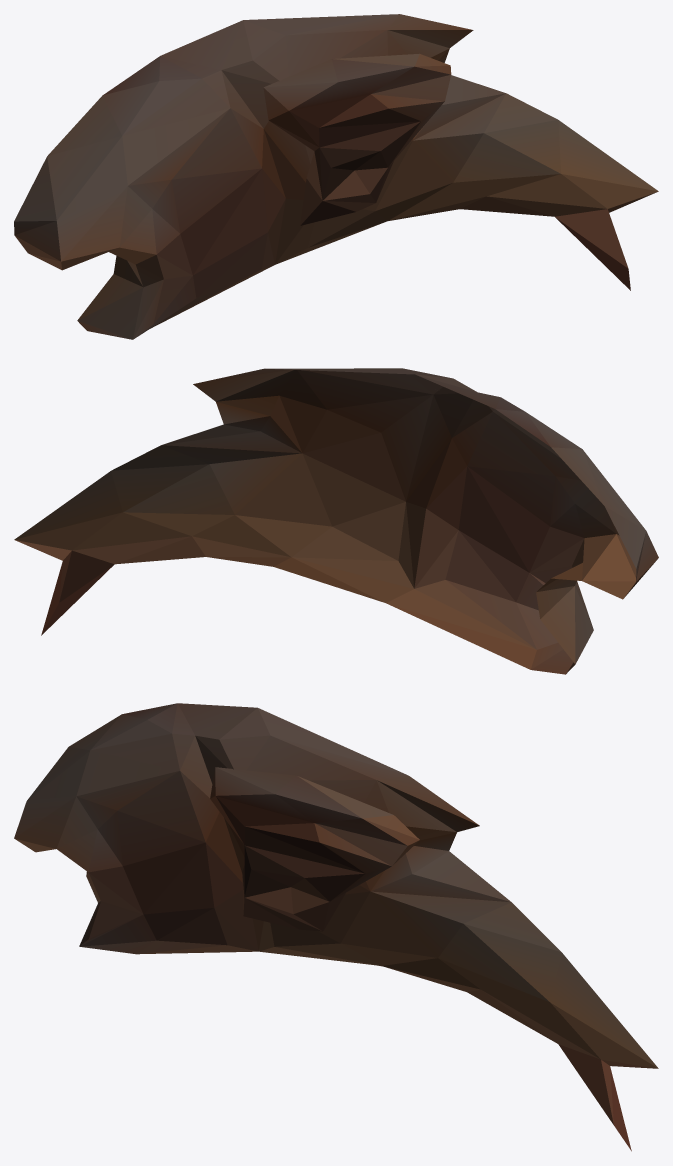
File: Prop_CarvingC.fbx
3 views of the same model, one above another, from view 1: azimuth 30°, elevation 25°; view 2: azimuth 150°, elevation 25°; view 3: azimuth 330°, elevation 25° (orthographic). The views are drawn at different scales.
Visible parts, largest first — view 1: Prop_CarvingC; view 2: Prop_CarvingC; view 3: Prop_CarvingC.
Boxes of the visible parts, <box> form: Prop_CarvingC: <box>14,14,658,339</box>; Prop_CarvingC: <box>14,368,658,674</box>; Prop_CarvingC: <box>14,703,658,1151</box>.
Bounding box in the file's own units: 96.13 × 52.07 × 12.21.
